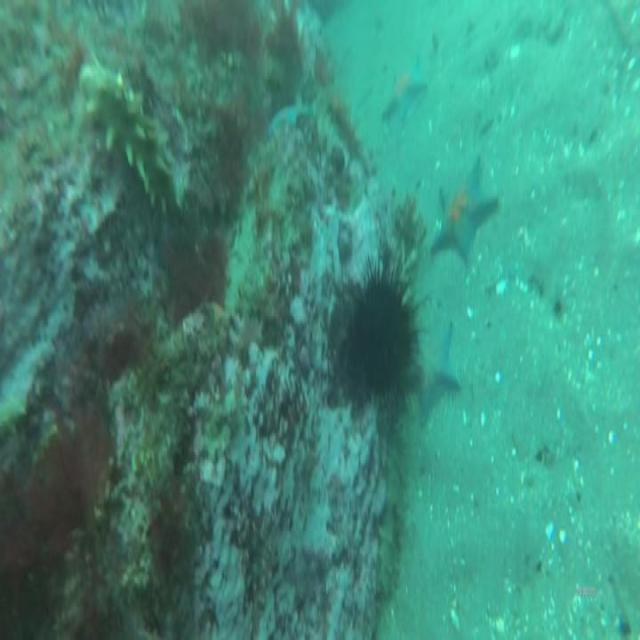echinus: (336, 240, 420, 406)
holothurian: (74, 57, 178, 215)
starfish: (426, 153, 501, 269), (412, 321, 463, 417), (378, 60, 426, 126), (267, 101, 311, 136)
